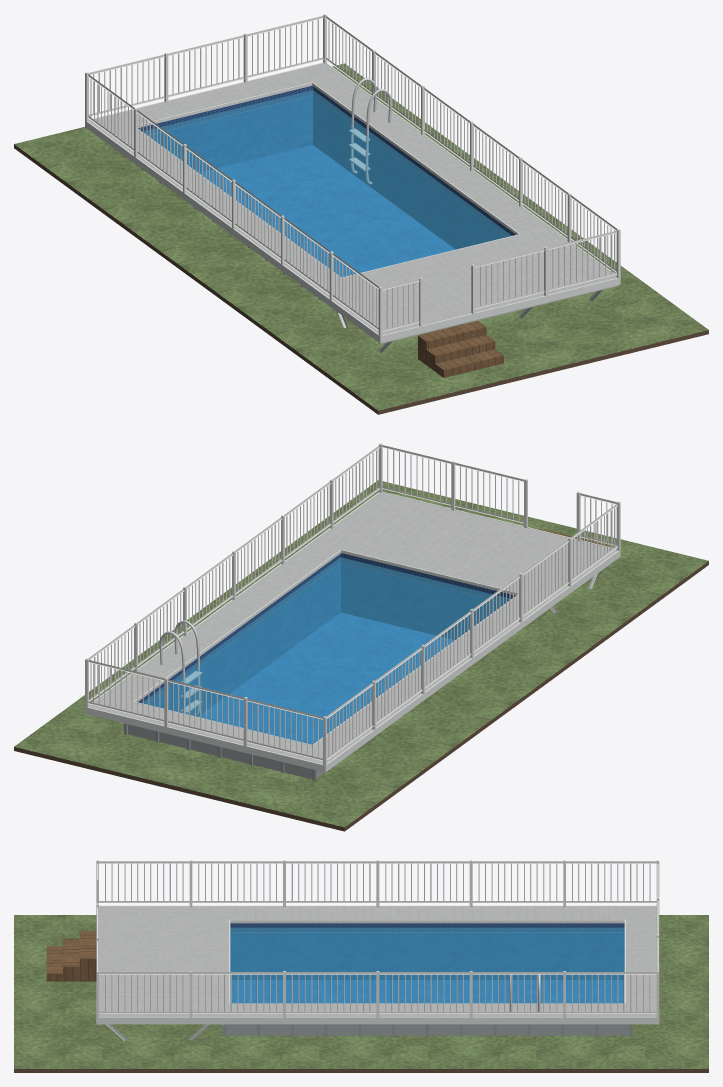
File: kayak-pool-12x24-gray-end-rec-fence.b0246b0db3.glb
3 renders of one model, top to bottom at view 1: azimuth 30°, elevation 25°; view 2: azimuth 150°, elevation 25°; view 3: azimuth 270°, elevation 25°, orthographic. The views are drawn at different scales.
Visible parts, largest first — view 1: ground, water, deck, fence, liner_wall, liner_floor, fascia, steps, soil, steel, stud; view 2: ground, water, deck, fence, liner_wall, liner_floor, fascia, soil, wall, steel; view 3: ground, water, deck, liner_wall, fence, liner_floor, fascia, wall, soil, steps, upright.
Boxes of the visible parts, x1=… form: ground: x1=14, y1=63, x2=708, y2=410; water: x1=142, y1=90, x2=511, y2=277; deck: x1=88, y1=63, x2=616, y2=334; fence: x1=85, y1=14, x2=620, y2=336; liner_wall: x1=138, y1=85, x2=515, y2=249; liner_floor: x1=199, y1=145, x2=455, y2=277; fascia: x1=85, y1=62, x2=620, y2=343; steps: x1=418, y1=321, x2=503, y2=377; soil: x1=14, y1=144, x2=708, y2=414; steel: x1=349, y1=78, x2=391, y2=184; stud: x1=314, y1=285, x2=618, y2=352; ground: x1=14, y1=480, x2=708, y2=827; water: x1=142, y1=557, x2=509, y2=744; deck: x1=89, y1=492, x2=617, y2=764; fence: x1=85, y1=443, x2=620, y2=765; liner_wall: x1=138, y1=553, x2=515, y2=716; liner_floor: x1=198, y1=612, x2=453, y2=744; fascia: x1=85, y1=492, x2=620, y2=772; soil: x1=14, y1=561, x2=708, y2=831; wall: x1=128, y1=724, x2=324, y2=778; steel: x1=159, y1=620, x2=201, y2=715; ground: x1=14, y1=915, x2=708, y2=1068; water: x1=230, y1=927, x2=624, y2=1003; deck: x1=99, y1=906, x2=656, y2=1017; liner_wall: x1=230, y1=923, x2=624, y2=979; fence: x1=96, y1=860, x2=659, y2=1017; liner_floor: x1=230, y1=980, x2=623, y2=1003; fascia: x1=96, y1=905, x2=659, y2=1024; wall: x1=226, y1=1024, x2=628, y2=1035; soil: x1=14, y1=1069, x2=708, y2=1072; steps: x1=46, y1=931, x2=96, y2=981; upright: x1=222, y1=1024, x2=632, y2=1036.
Bounding box in the file's own units: 6.71 × 2.15 × 12.79.
13 materials, 5 textured.
